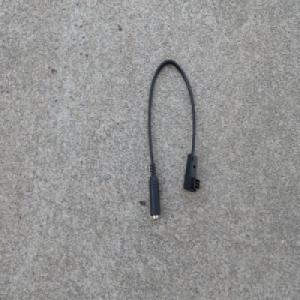Wire: (145, 57, 201, 223)
